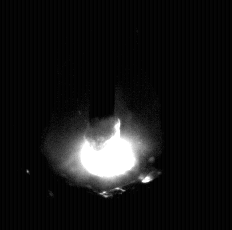arame: (91, 0, 115, 126)
poca: (44, 0, 158, 230)
